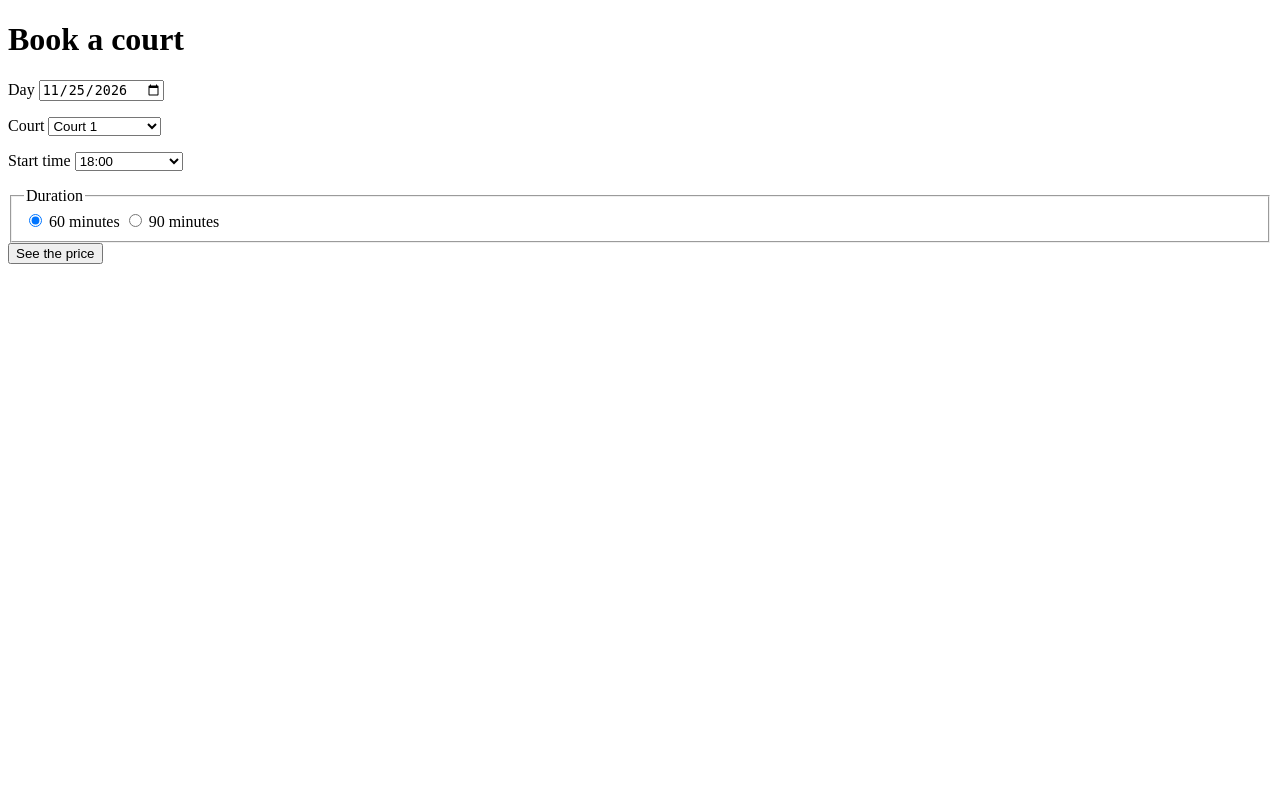
Book a court page › adds rackets and balls: the total price is updated and sent with the booking
The image size is (1280, 800).
Click the radio button labelled "90 minutes": (135, 220) left=129, top=214, right=142, bottom=227
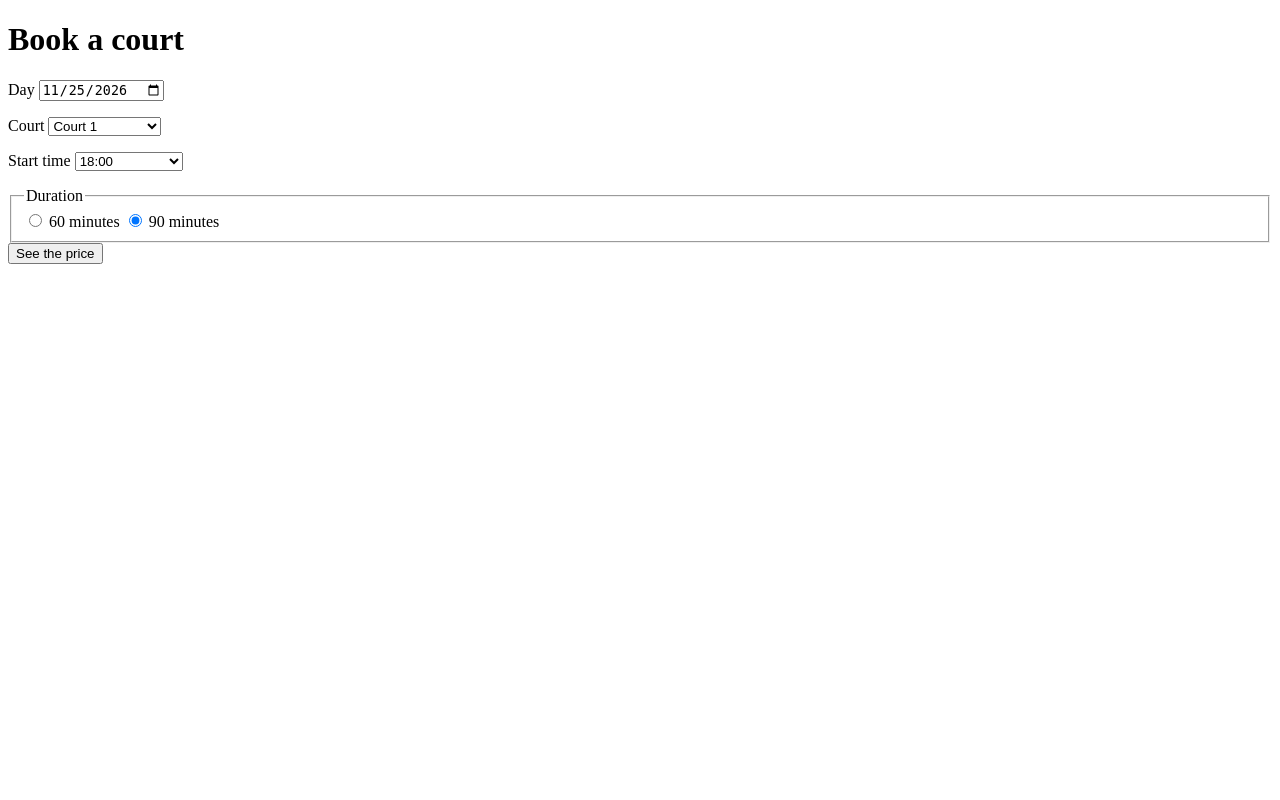
Click the button "See the price": (55, 253) left=8, top=243, right=102, bottom=264
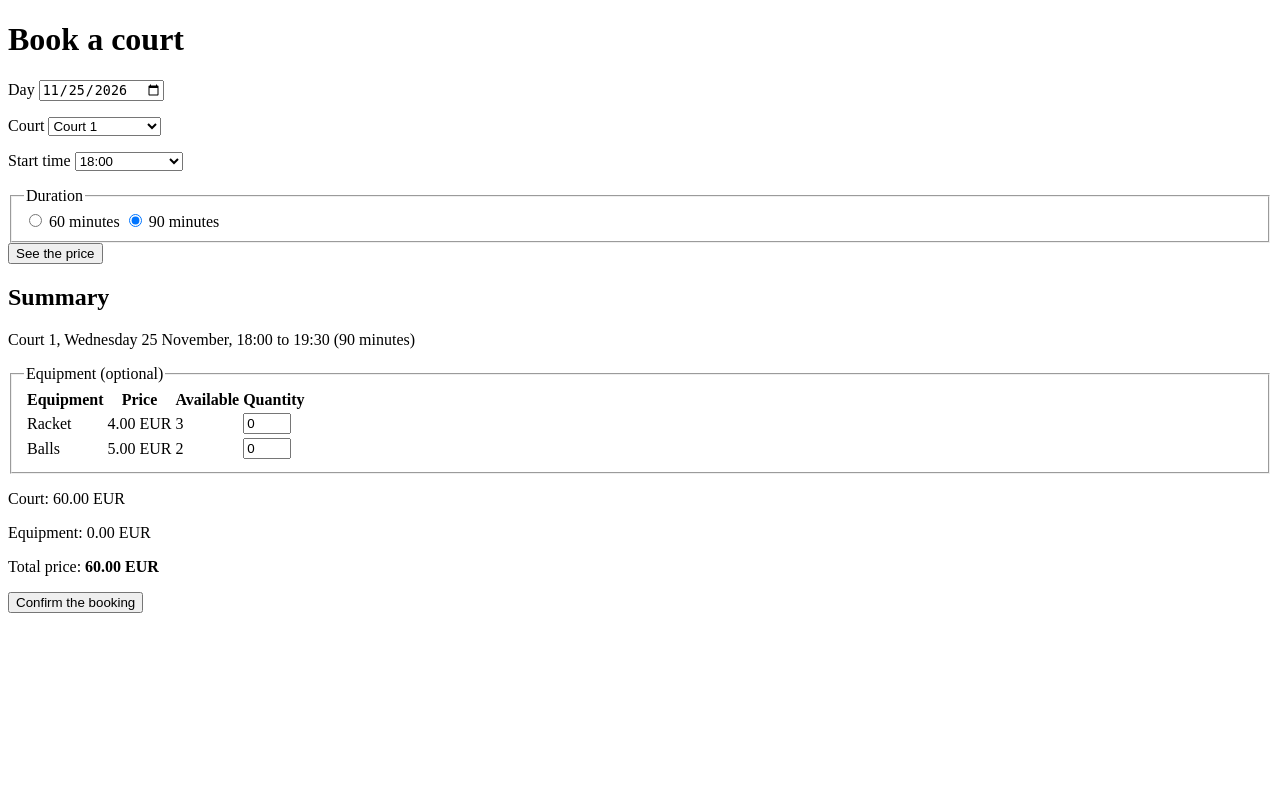
Replace the text in the number field named "Racket quantity" with "2": (267, 424) left=243, top=413, right=291, bottom=434
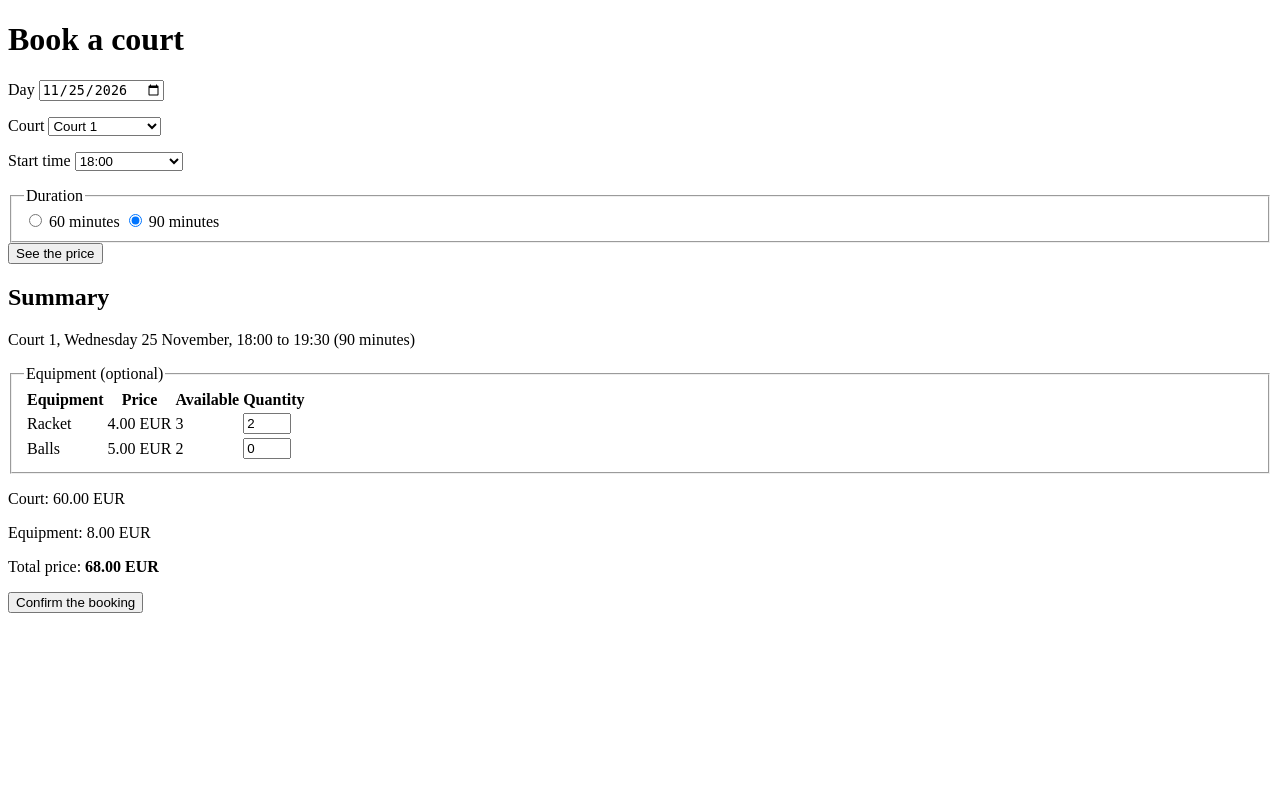
Replace the text in the number field named "Balls quantity" with "1": (267, 449) left=243, top=438, right=291, bottom=459
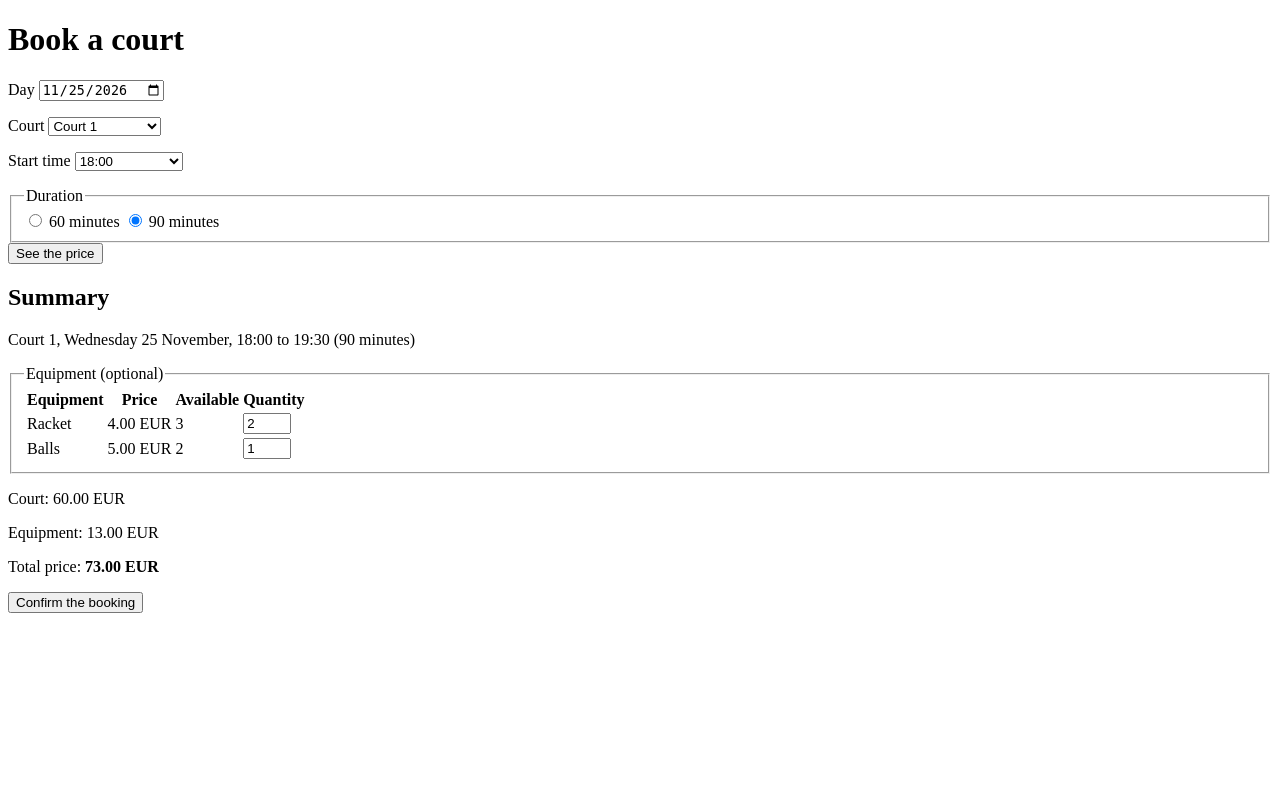
Check: the element "Summary" shows "Equipment: 13.00 EUR", box left=8, top=284, right=1272, bottom=613
Check: the element "Summary" shows "Total price: 73.00 EUR", box left=8, top=284, right=1272, bottom=613
Click the button "Confirm the booking": (76, 603) left=8, top=592, right=143, bottom=613
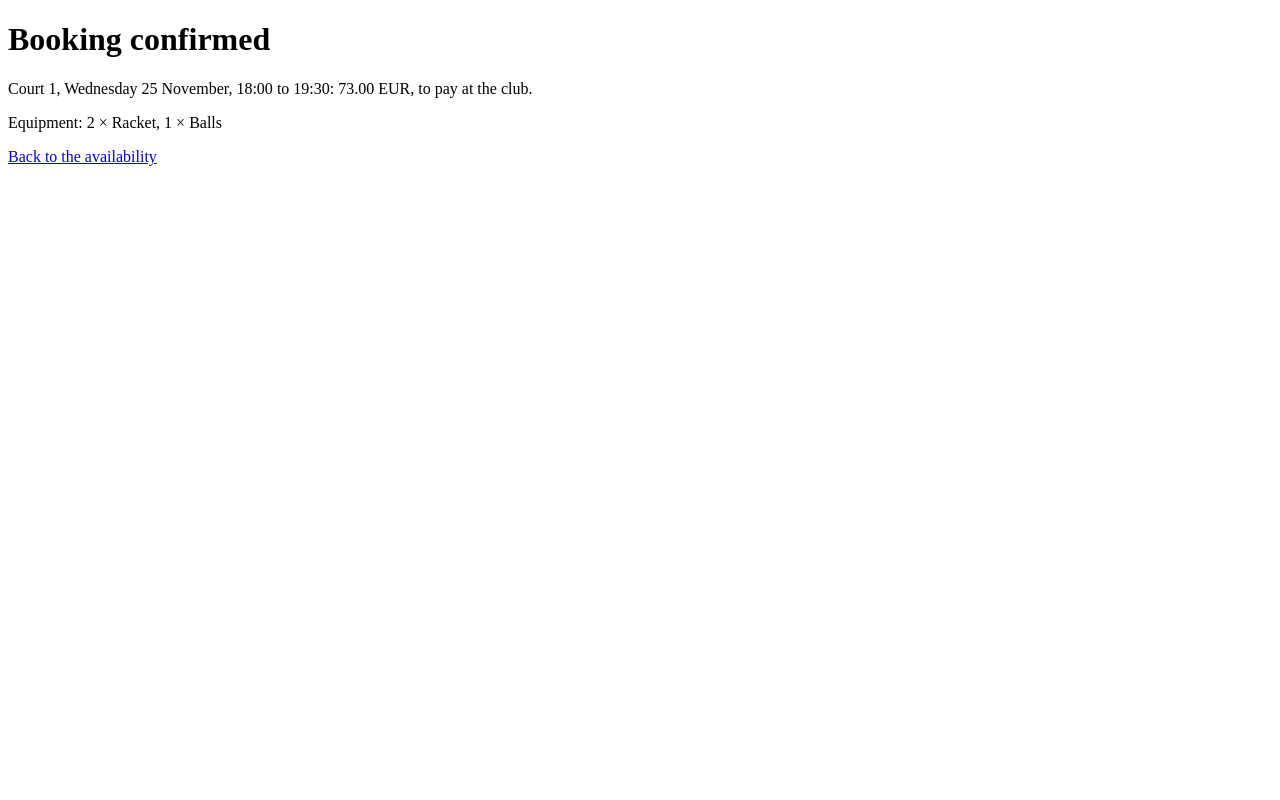
Check: the message shows "18:00 to 19:30: 73.00 EUR", box left=8, top=80, right=532, bottom=97
Check: the text "Equipment: 2 × Racket, 1 × Balls" is shown, box left=8, top=114, right=222, bottom=131
